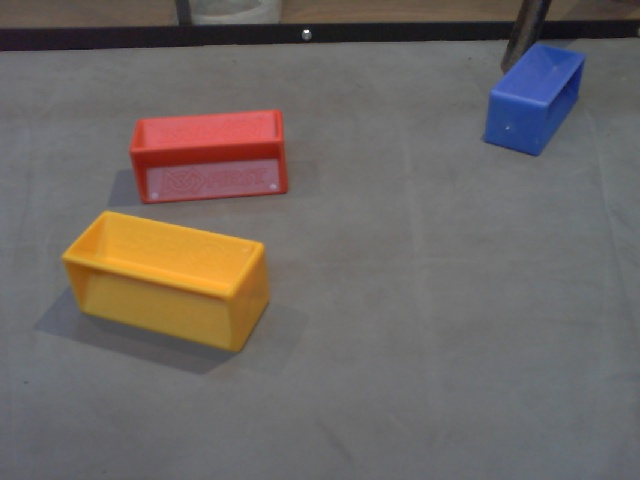BlueSample: (484, 42, 587, 159)
RedSample: (126, 106, 297, 209)
YellowSample: (57, 204, 275, 356)
